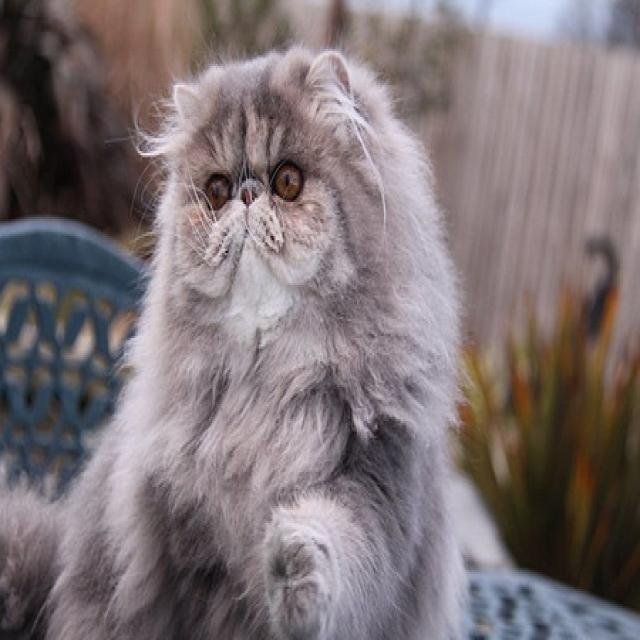Persian: (0, 38, 471, 640)
